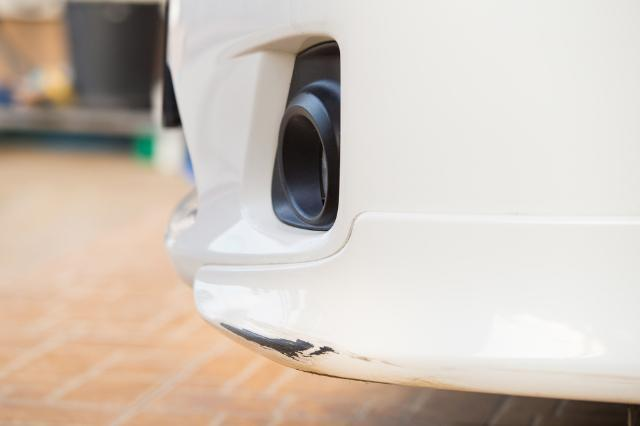scratch: (215, 318, 352, 367)
